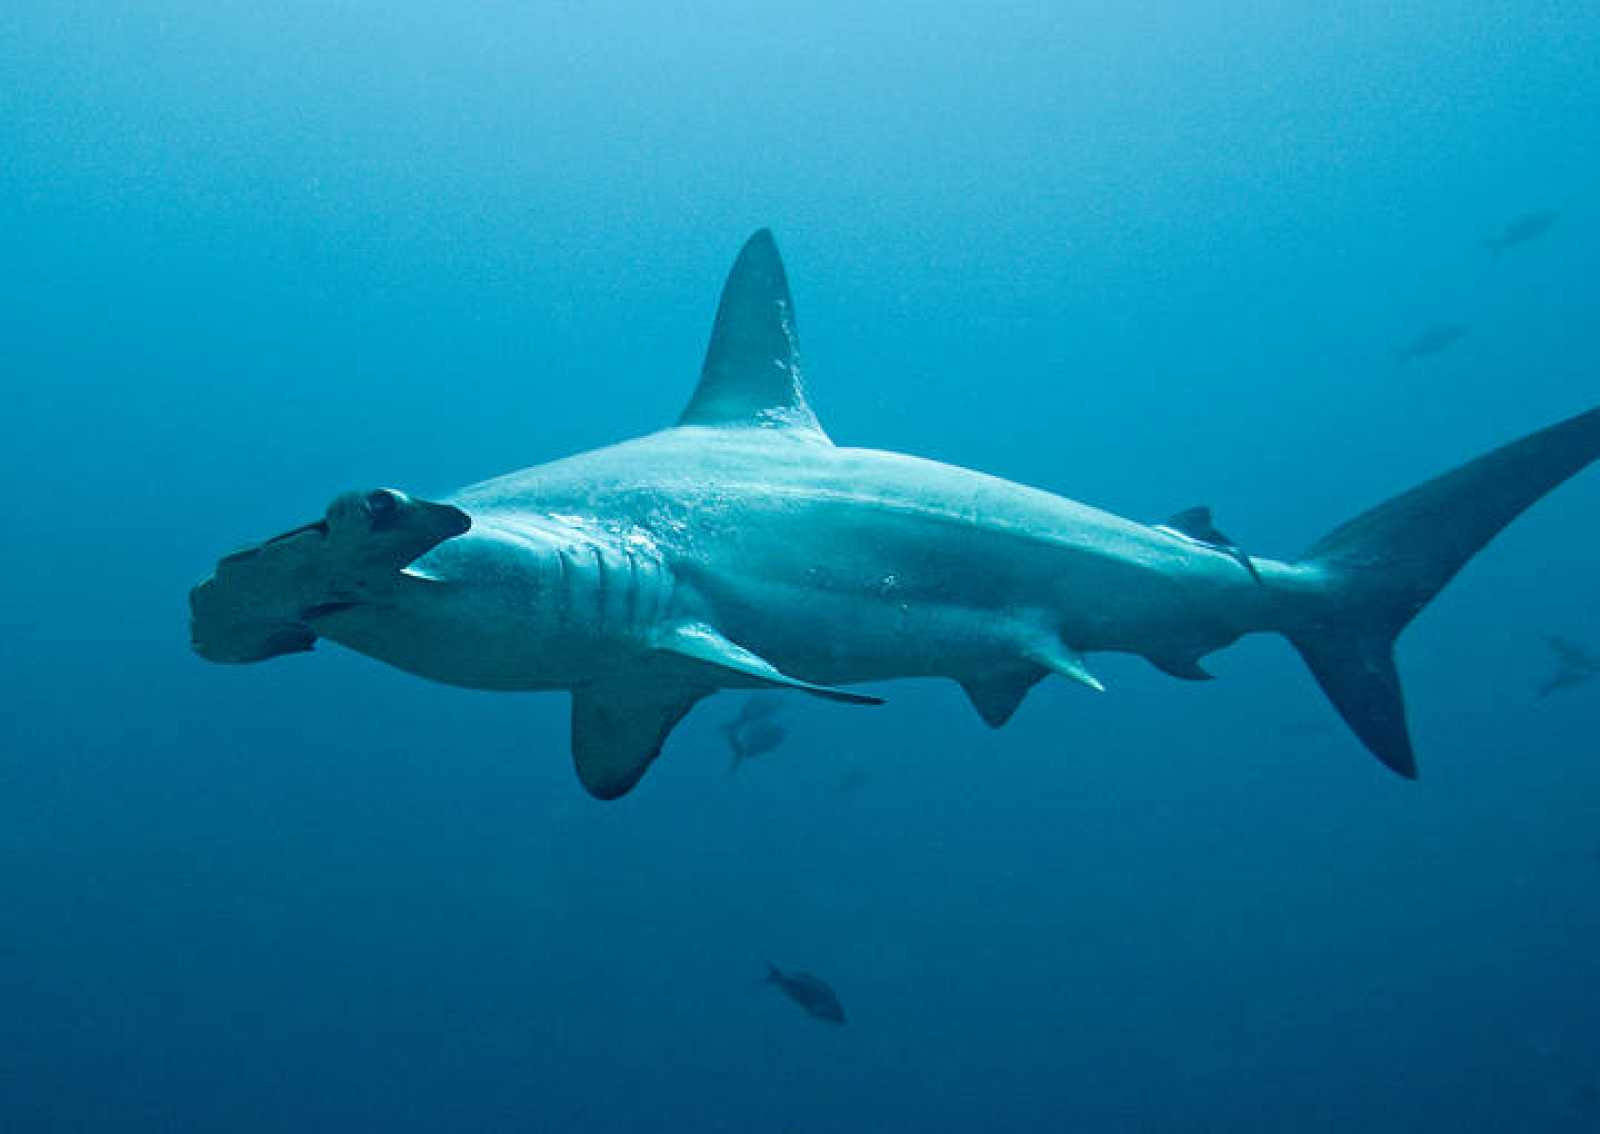Hammer: (125, 214, 1600, 849)
